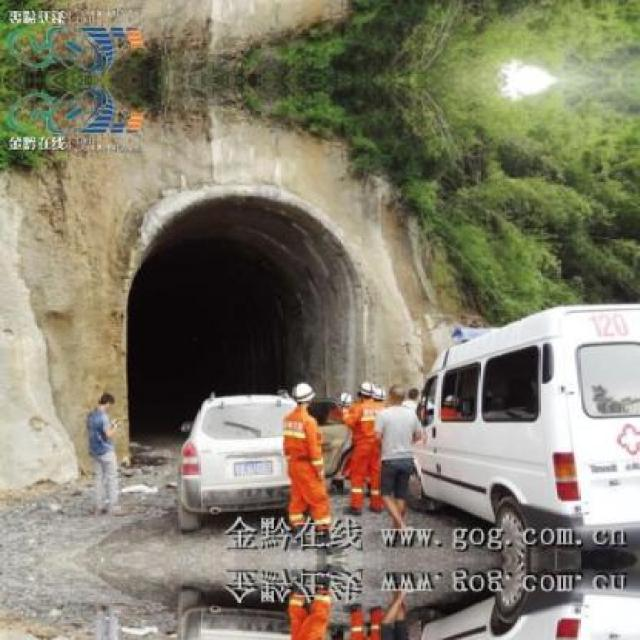helmet: (288, 379, 318, 403), (356, 379, 374, 398)
nohelmet: (387, 384, 408, 404), (97, 391, 114, 415)
